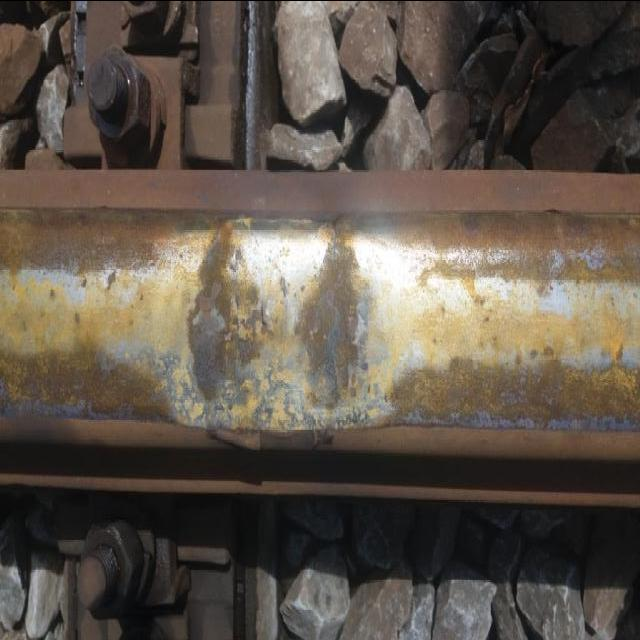head_checks_high: (146, 225, 392, 426)
